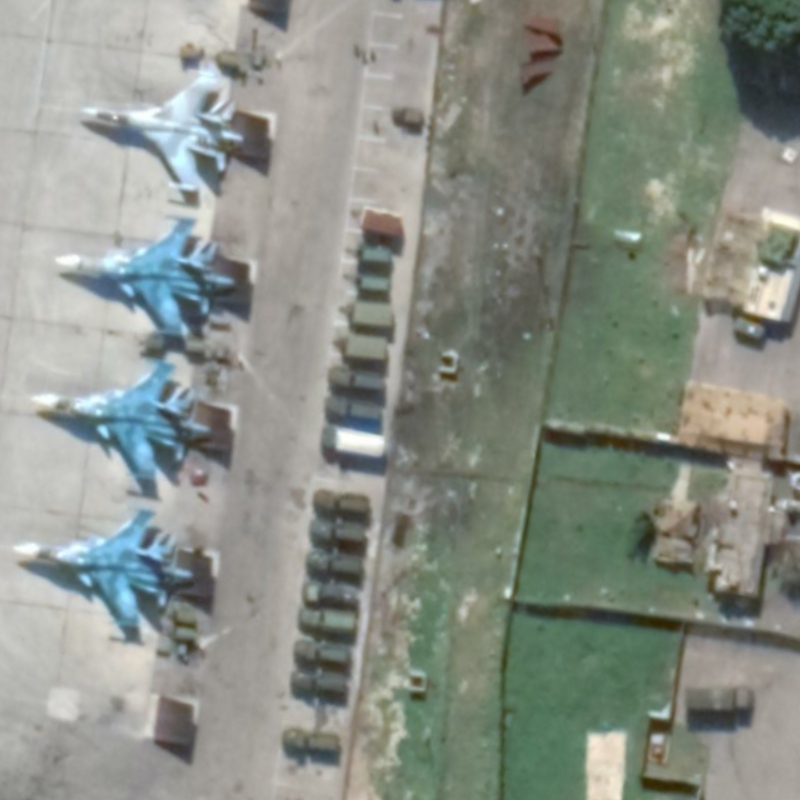A1: (81, 64, 246, 196)
A19: (27, 354, 215, 484), (9, 502, 197, 631), (52, 210, 238, 338)
